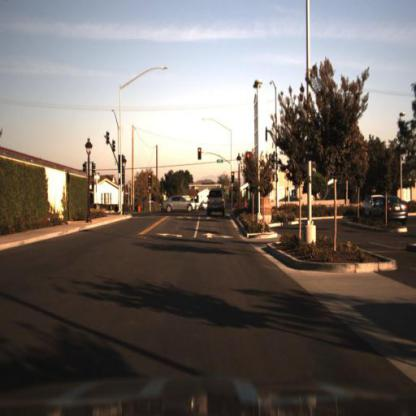car: (367, 191, 411, 227), (164, 192, 199, 215), (205, 185, 228, 214), (360, 194, 375, 225)
trafficLight-Red: (146, 175, 154, 190), (198, 147, 205, 163), (246, 148, 252, 164), (196, 145, 203, 158), (146, 173, 153, 183), (230, 169, 236, 180)
